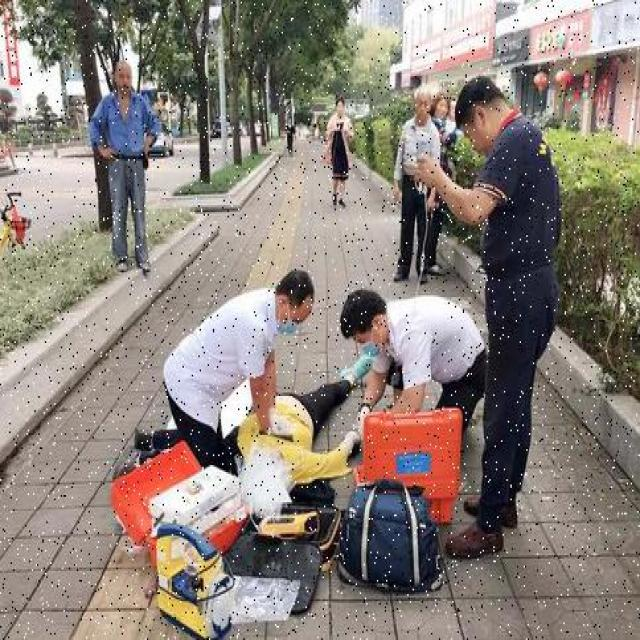fall: (236, 350, 364, 484)
